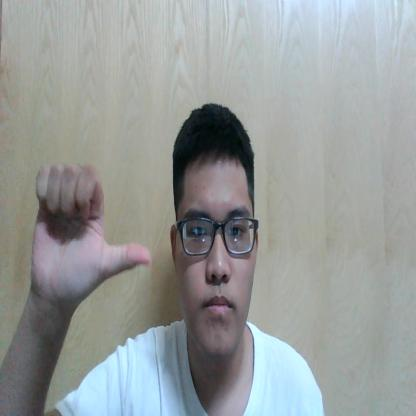left: (30, 161, 146, 306)
